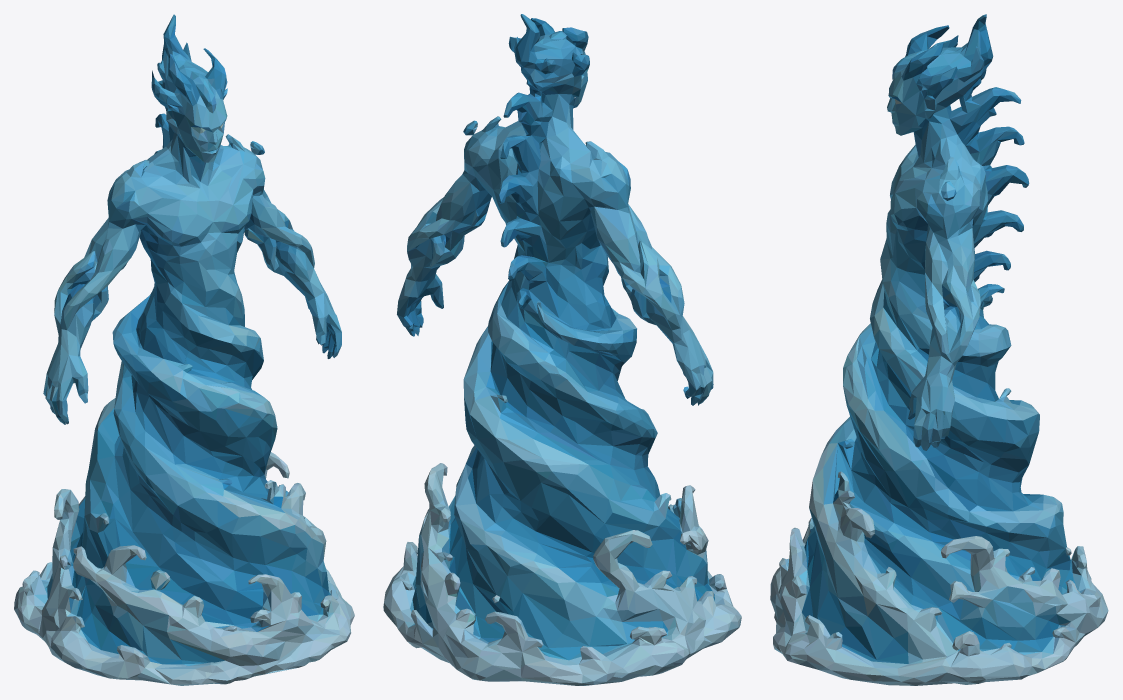
File: lake-spirit.glb
The picture shows the model from 3 angles, left to right: view 1: azimuth 30°, elevation 25°; view 2: azimuth 150°, elevation 25°; view 3: azimuth 270°, elevation 25°; orthographic projection. The views are drawn at different scales.
Visible parts, largest first — view 1: tripo_node_d21db91e-c76b-470a-8807-d4d79c84d514; view 2: tripo_node_d21db91e-c76b-470a-8807-d4d79c84d514; view 3: tripo_node_d21db91e-c76b-470a-8807-d4d79c84d514.
Boxes of the visible parts, x1,y1,x2,y2 form: tripo_node_d21db91e-c76b-470a-8807-d4d79c84d514: (14, 14, 354, 685); tripo_node_d21db91e-c76b-470a-8807-d4d79c84d514: (383, 14, 741, 685); tripo_node_d21db91e-c76b-470a-8807-d4d79c84d514: (770, 14, 1108, 685).
Bounding box in the file's own units: 1.27 × 2.4 × 1.19.
